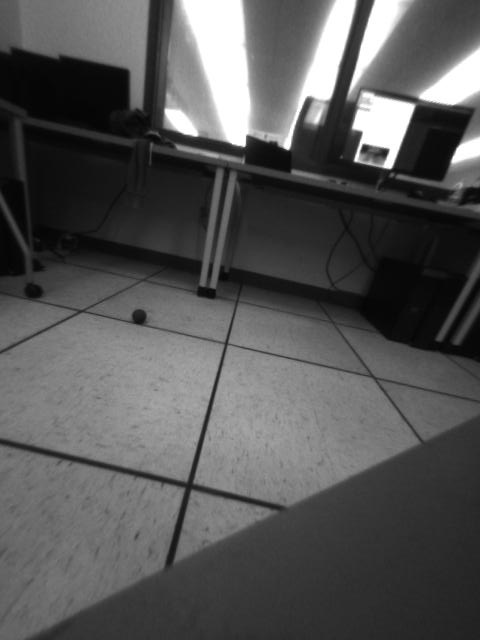dogtoy: (127, 301, 156, 333)
